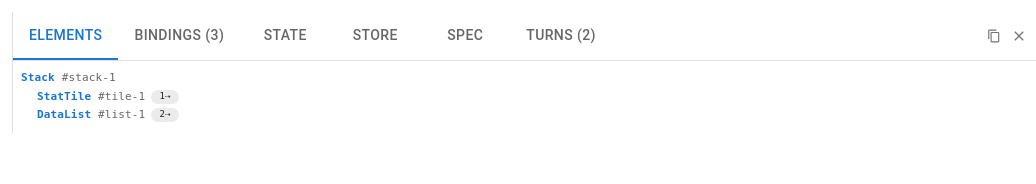
Test: DebugPanel › lists generation turns with outcome and duration
Click the tab "Turns (2)". click: (561, 36)
box: [510,12,612,60]
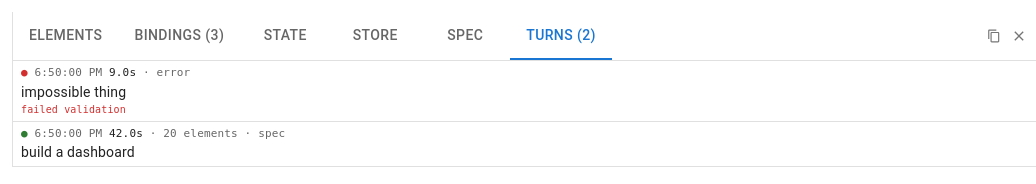
Expected: the text "build a dashboard" is shown, [21,144,135,160]
Expected: the text "42.0s" is shown, [109,126,143,140]
Expected: the text "failed validation" is shown, [21,104,126,114]
